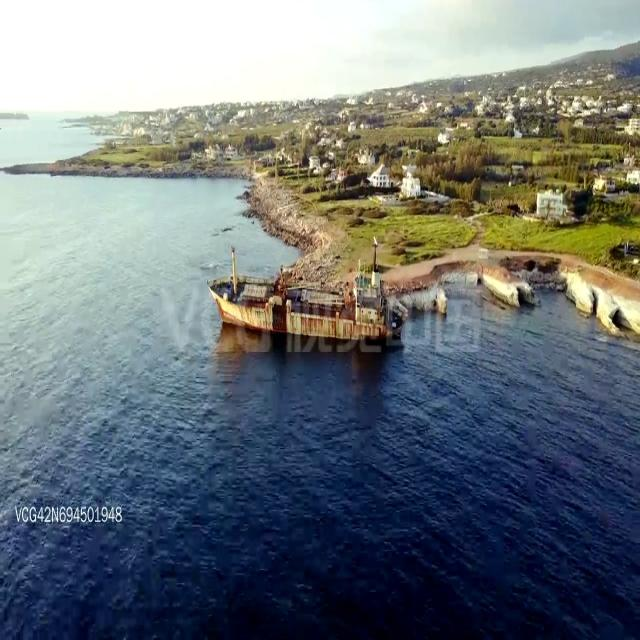cargoship: (200, 240, 409, 350)
